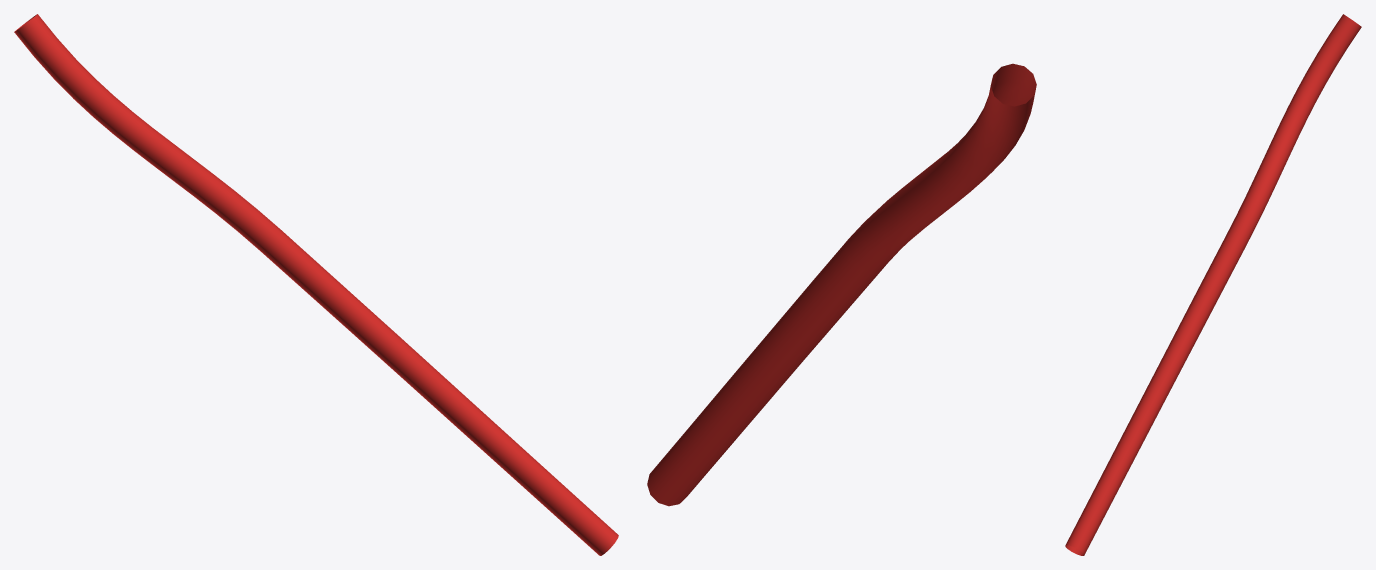
Rendered from circulatorio-ulnar-recurrent-artery-l.glb.
3 renders of one model, left to right at view 1: azimuth 30°, elevation 25°; view 2: azimuth 150°, elevation 25°; view 3: azimuth 270°, elevation 25°, orthographic. The views are drawn at different scales.
Visible parts, largest first — view 1: (Ulnar recurrent artery).l; view 2: (Ulnar recurrent artery).l; view 3: (Ulnar recurrent artery).l.
Part boxes in pixels (x1,y1,x2,y2): (Ulnar recurrent artery).l: (14, 14, 618, 555); (Ulnar recurrent artery).l: (647, 63, 1036, 506); (Ulnar recurrent artery).l: (1065, 14, 1361, 555).
Size of the model in its own units: 0.0222 by 0.0253 by 0.0173.
